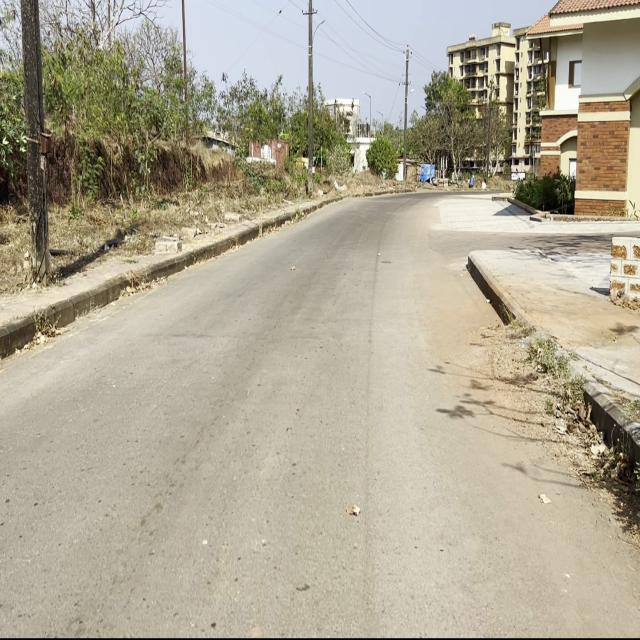Road: (0, 191, 640, 640)
